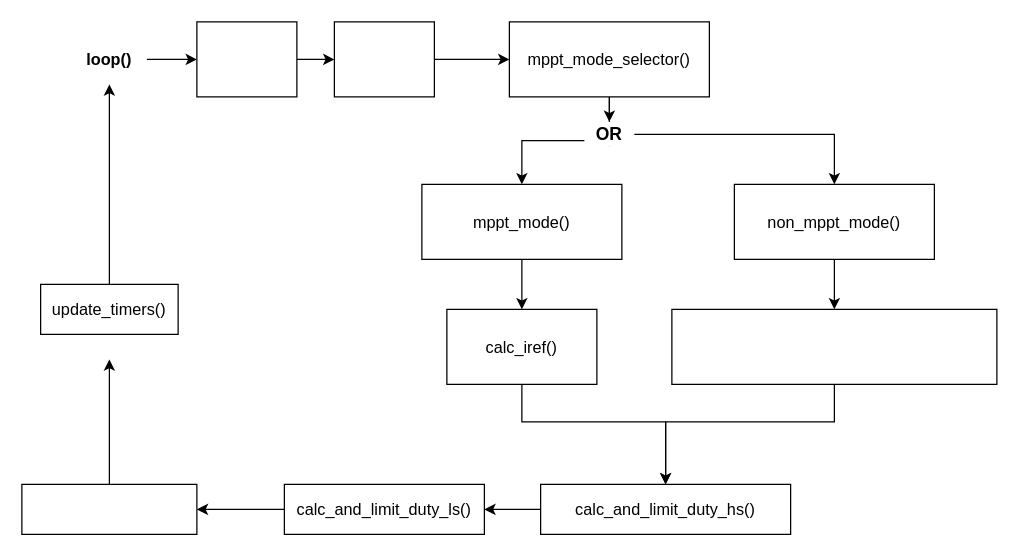
Image size: 1019x556. Some labels were removed from this diagram. The centre of each missing label's shape, as x and y in pixels:
"Battery current reference set to a constant" goes at pixel 834 346.
"ensure_dead_band()" goes at pixel 109 508.
"soft_start()" goes at pixel 383 59.
"takeinputs()" goes at pixel 246 59.
